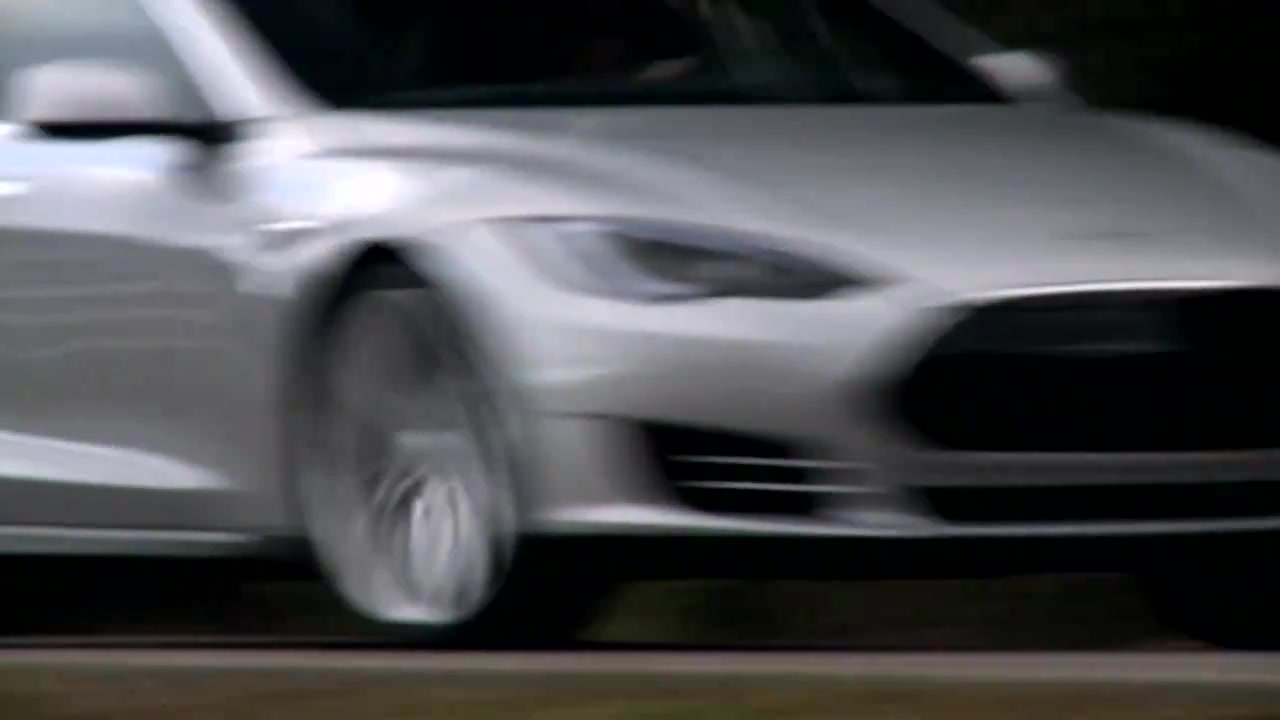car: (1, 1, 1280, 653)
